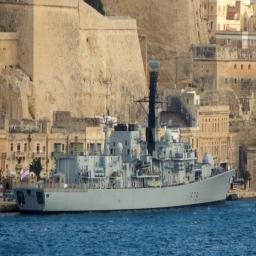Fragata: (12, 53, 238, 220)
